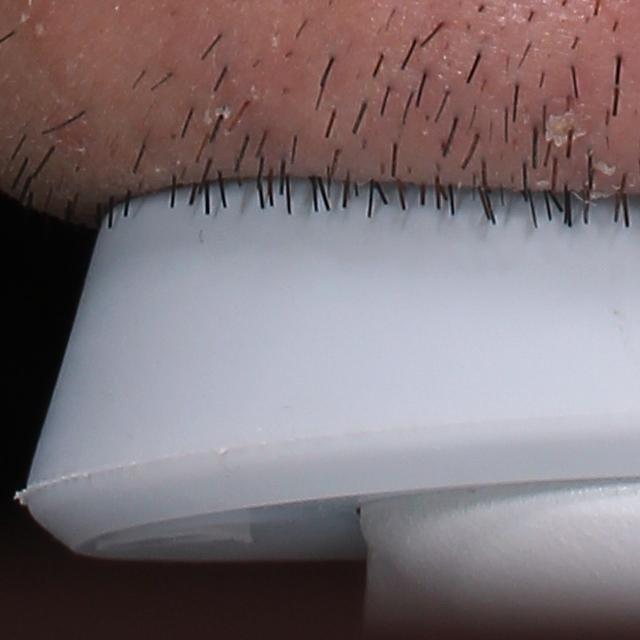pustule: (30, 15, 57, 47)
